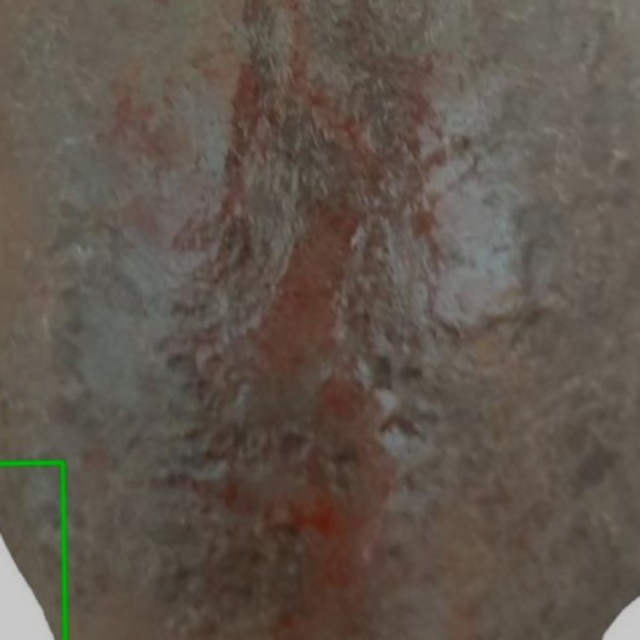Contact Dermatitis: (0, 462, 65, 639)
